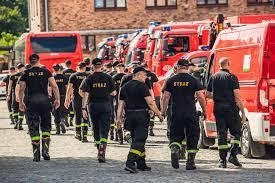Fire-engine: (145, 16, 212, 69)
